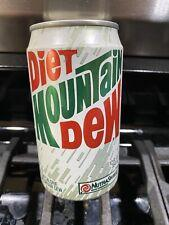metal: (27, 20, 123, 200)
